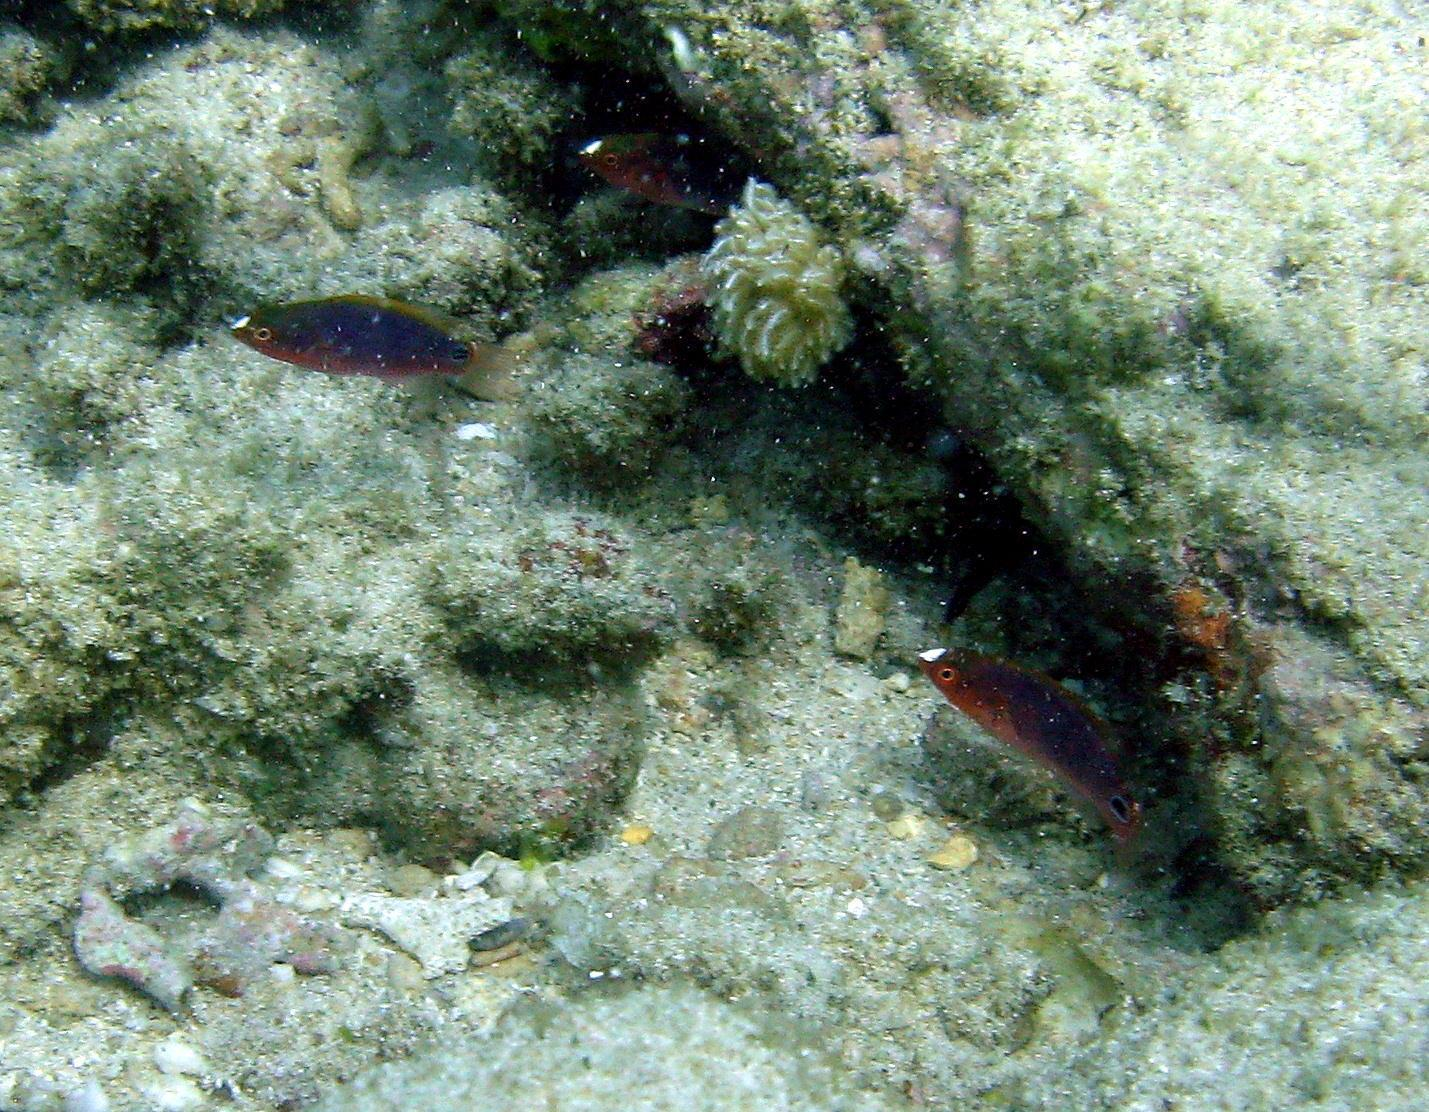Fish: (899, 623, 1161, 860), (209, 237, 534, 416)
